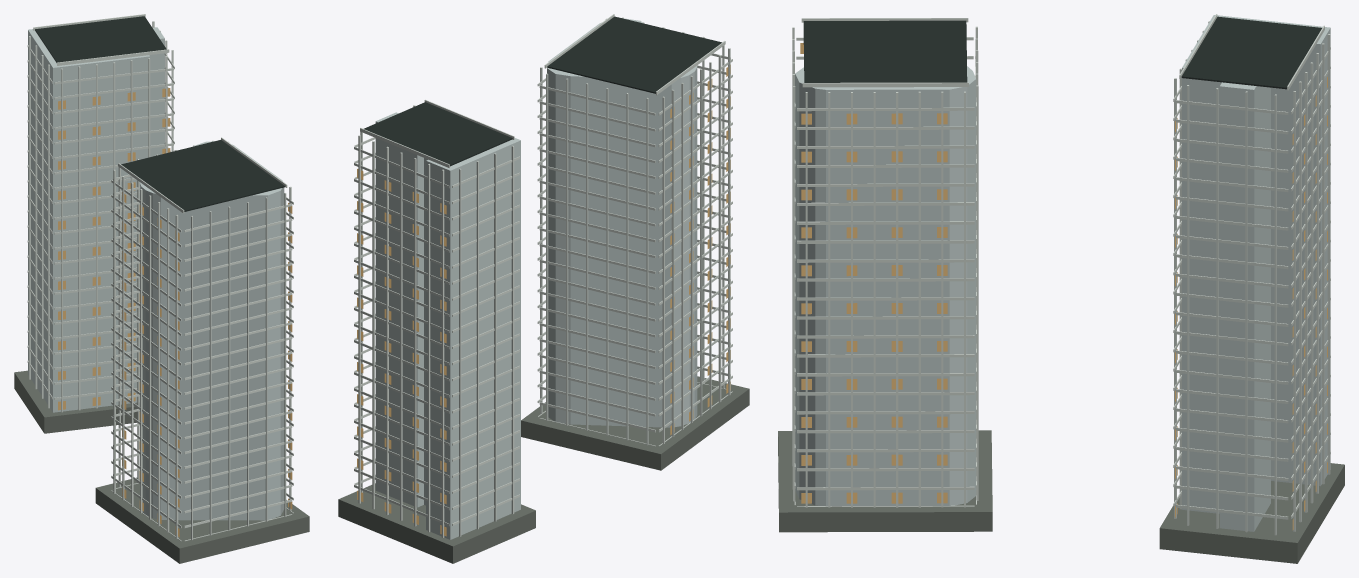
Rendered from cr-neighbours.glb.
3 views of the same model, side by side, from view 1: azimuth 30°, elevation 25°; view 2: azimuth 150°, elevation 25°; view 3: azimuth 270°, elevation 25° (orthographic). The views are drawn at different scales.
Visible parts, largest first — view 1: envelope, fins, floor_bands, roof_deck, podium, night_windows, parapet; view 2: envelope, fins, floor_bands, podium, roof_deck, night_windows, parapet; view 3: envelope, fins, floor_bands, roof_deck, podium, night_windows, parapet.
Boxes of the visible parts, box(x1,y1,x2,y2) form: envelope: box(28, 27, 284, 520); fins: box(29, 21, 291, 539); floor_bands: box(27, 45, 293, 541); roof_deck: box(35, 16, 284, 211); podium: box(14, 370, 309, 563); night_windows: box(58, 88, 292, 537); parapet: box(33, 14, 287, 213); envelope: box(375, 18, 697, 539); fins: box(358, 17, 730, 537); floor_bands: box(354, 53, 732, 526); podium: box(338, 376, 749, 563); roof_deck: box(364, 16, 721, 166); night_windows: box(357, 65, 730, 536); parapet: box(360, 14, 725, 167); envelope: box(795, 15, 1330, 531); fins: box(792, 21, 1330, 535); floor_bands: box(794, 37, 1330, 519); roof_deck: box(803, 16, 1321, 89); podium: box(778, 430, 1344, 563); night_windows: box(800, 43, 1327, 530); parapet: box(801, 14, 1324, 90).
Bounding box in the file's own units: 80.61 × 154 × 170.
